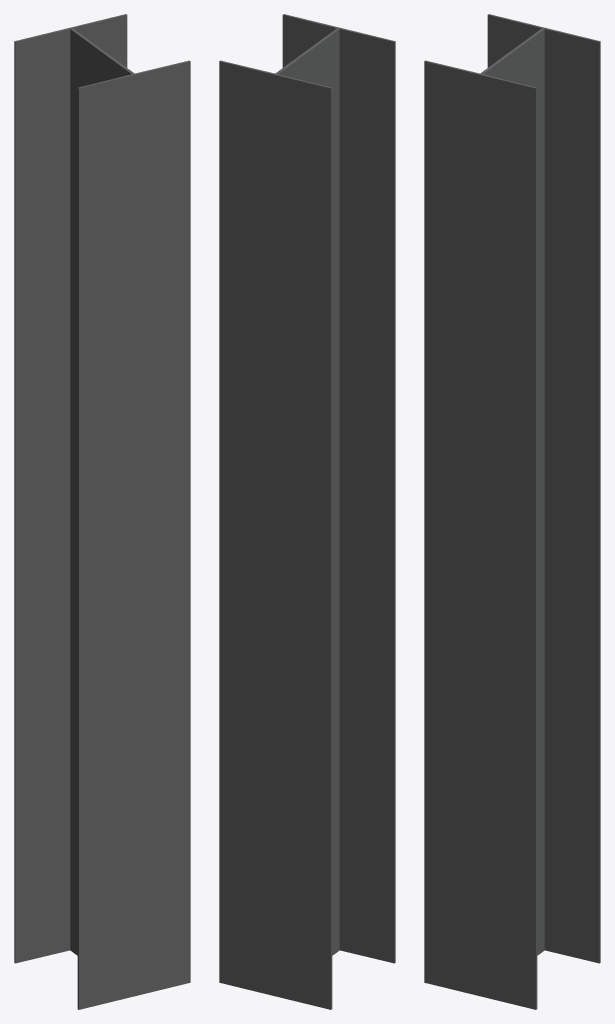
File: w-flange.gltf
The picture shows the model from 3 angles, left to right: view 1: azimuth 30°, elevation 25°; view 2: azimuth 150°, elevation 25°; view 3: azimuth 330°, elevation 25°; orthographic projection.
Visible parts, largest first — view 1: Plane; view 2: Plane; view 3: Plane.
Part boxes in pixels (<box>): Plane: <box>14,14,190,1009</box>; Plane: <box>219,14,395,1009</box>; Plane: <box>424,14,600,1009</box>.
Size of the model in its own units: 2 by 15.75 by 2.
Materials: 1 (1 with a texture image).
